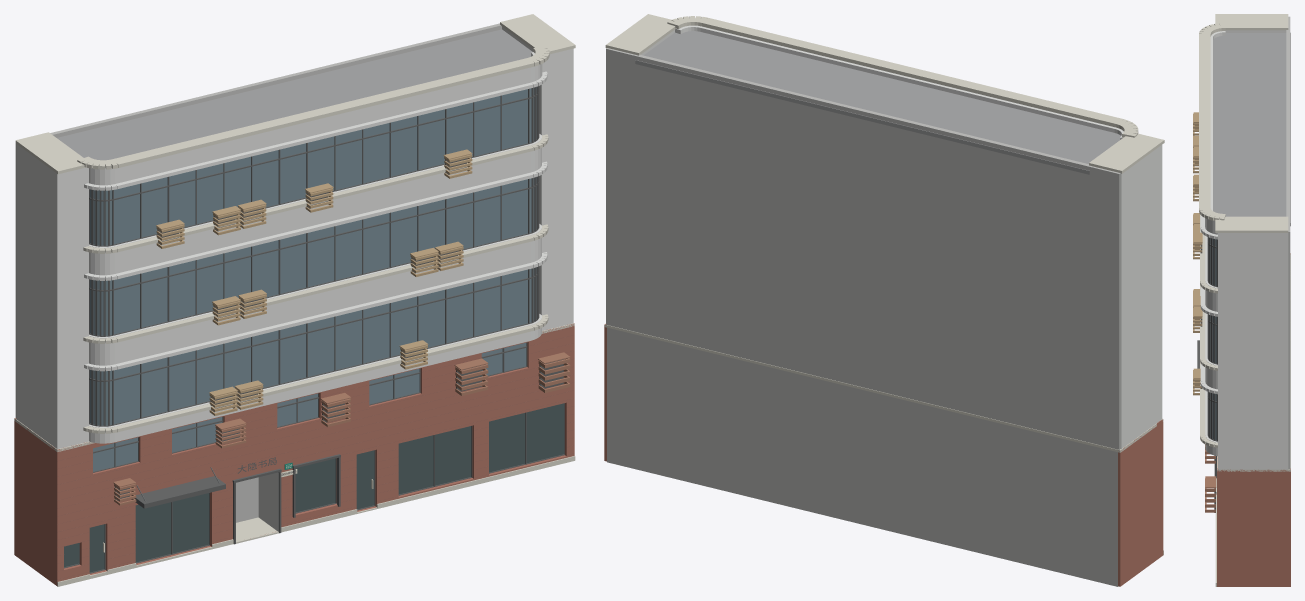
File: xuhui-wukang-mansion-east-annex-lod.glb
The picture shows the model from 3 angles, left to right: view 1: azimuth 30°, elevation 25°; view 2: azimuth 150°, elevation 25°; view 3: azimuth 270°, elevation 25°; orthographic projection. The views are drawn at different scales.
Visible parts, largest first — view 1: 武康大楼东侧副楼临淮海中路立面; view 2: 武康大楼东侧副楼临淮海中路立面; view 3: 武康大楼东侧副楼临淮海中路立面.
Part boxes in pixels (left/top/right/bottom): 武康大楼东侧副楼临淮海中路立面: left=14, top=14, right=575, bottom=586; 武康大楼东侧副楼临淮海中路立面: left=604, top=14, right=1164, bottom=586; 武康大楼东侧副楼临淮海中路立面: left=1193, top=14, right=1290, bottom=586.
Size of the model in its own units: 24.17 by 18.66 by 4.61.
